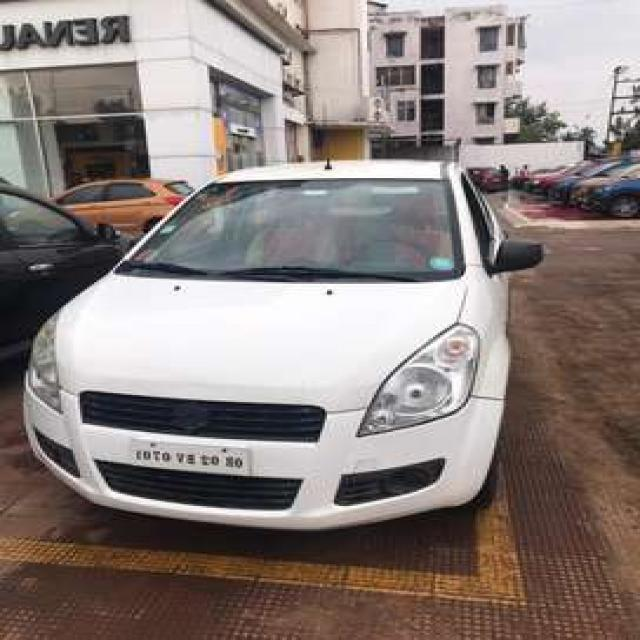license_plate: (120, 434, 262, 480)
